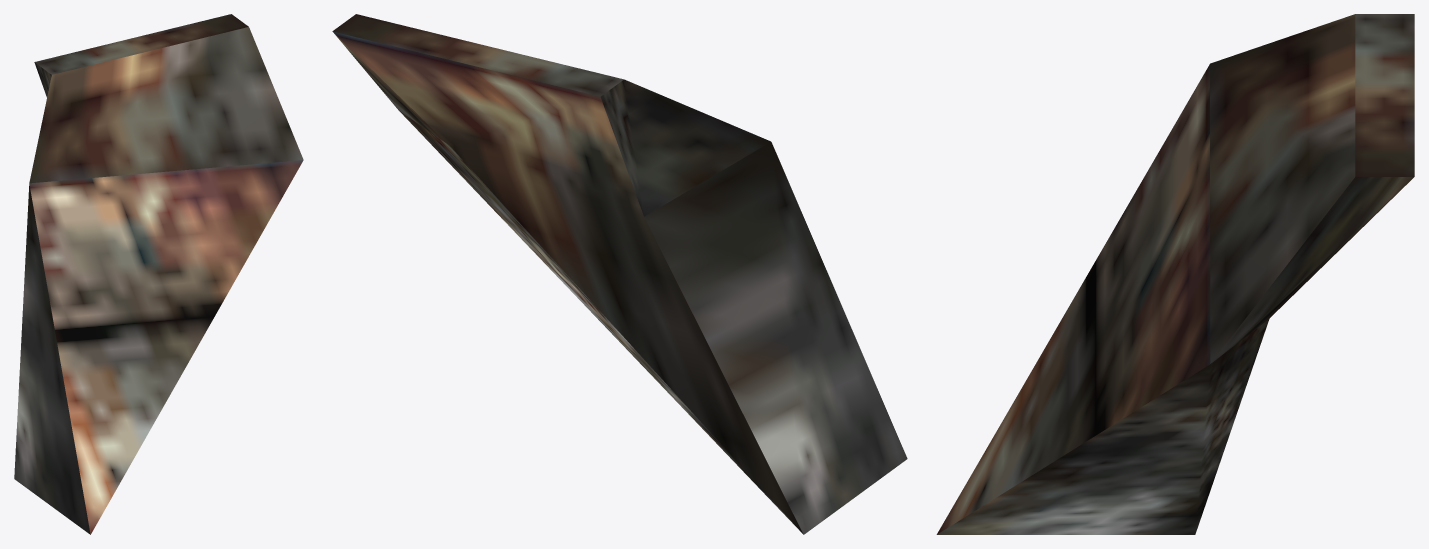
File: USA - Base Infrastructure - Power Plant - Damage State 15 - ABPWRPLANT_d15.glb
3 views of the same model, side by side, from view 1: azimuth 30°, elevation 25°; view 2: azimuth 150°, elevation 25°; view 3: azimuth 270°, elevation 25° (orthographic). The views are drawn at different scales.
Parts seen in each view (by area): view 1: ABPWRPLANT_D15; view 2: ABPWRPLANT_D15; view 3: ABPWRPLANT_D15.
Part boxes in pixels (box(x1,y1,x2,y2)): ABPWRPLANT_D15: box(14, 14, 303, 534); ABPWRPLANT_D15: box(332, 14, 907, 534); ABPWRPLANT_D15: box(936, 14, 1414, 534).
Bounding box in the file's own units: 7.33 × 8.31 × 6.09.
Materials: 1 (1 with a texture image).
